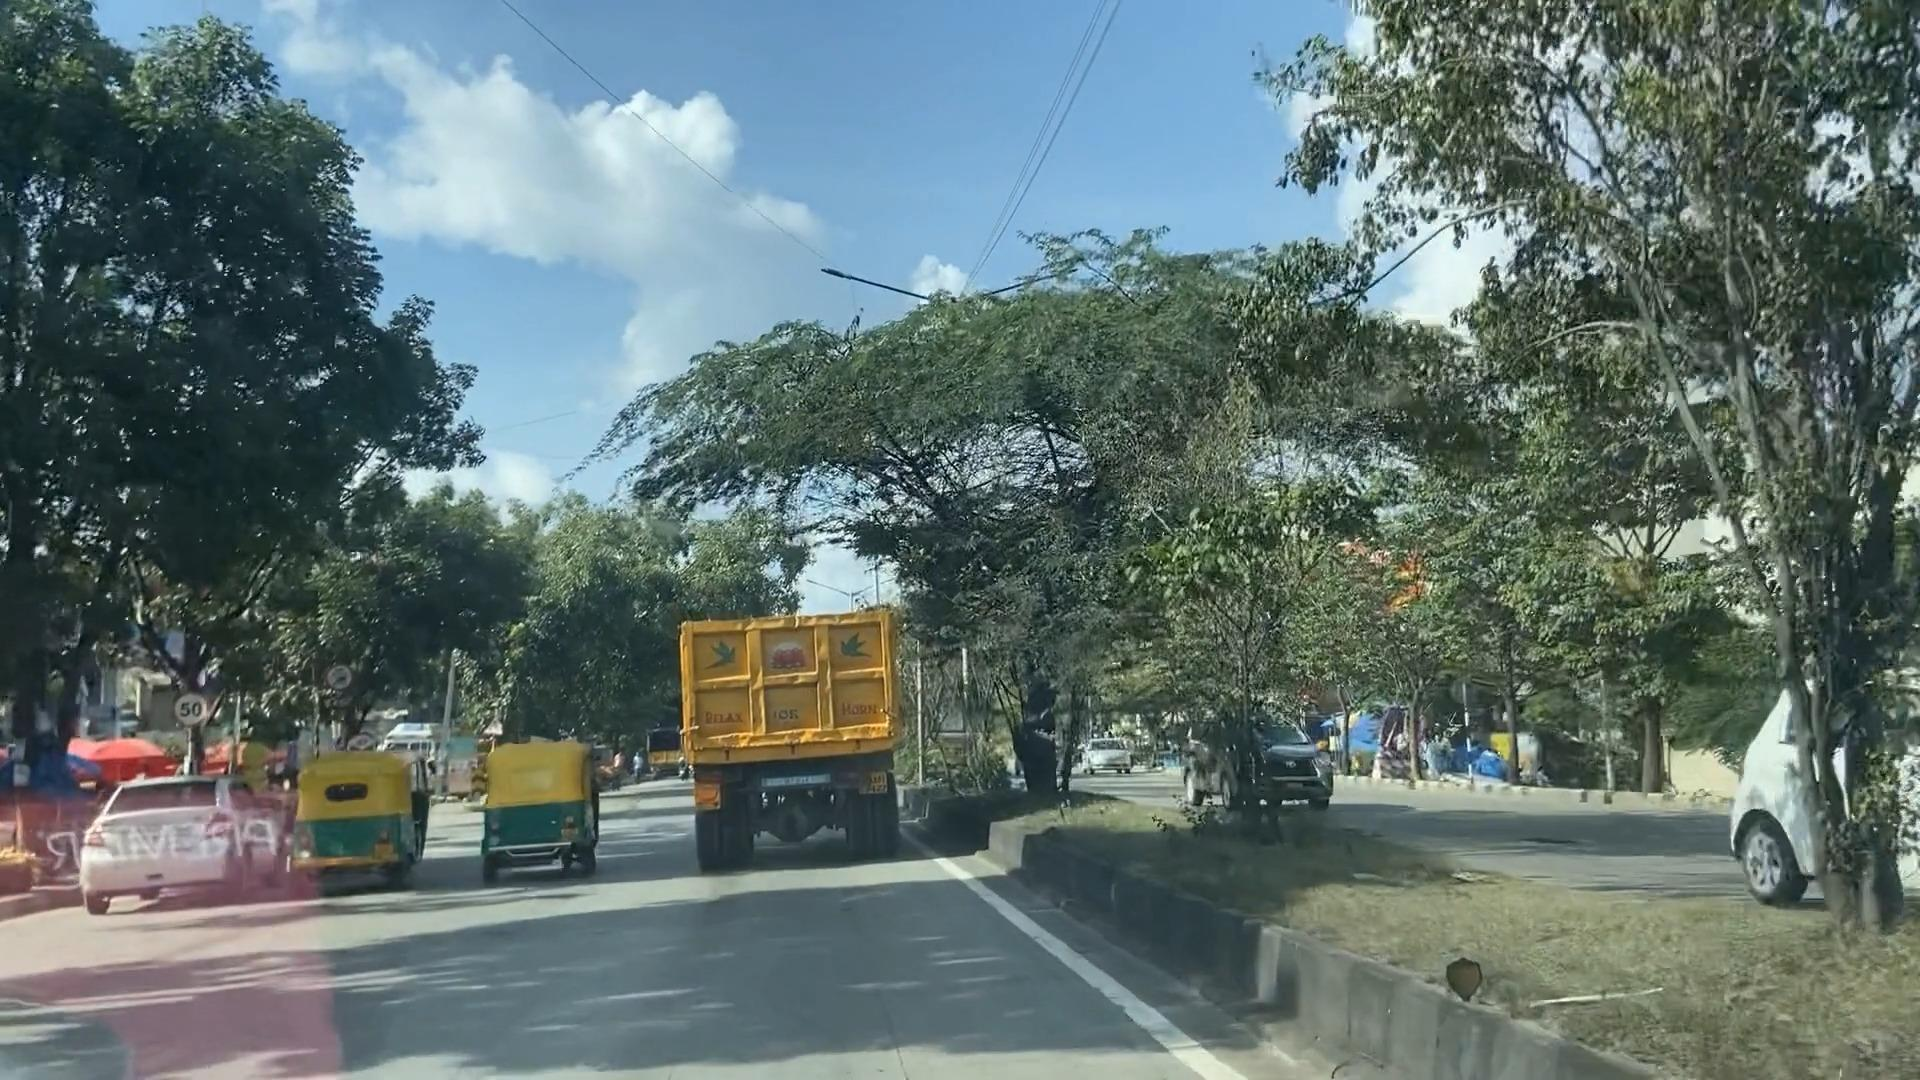HMV: (669, 589, 903, 851)
LMV: (88, 766, 287, 920), (451, 736, 599, 880), (290, 736, 417, 887)
